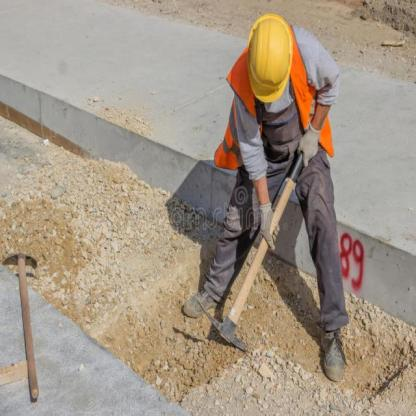bota: (316, 325, 351, 386), (179, 289, 227, 323)
capacete: (239, 11, 295, 107)
